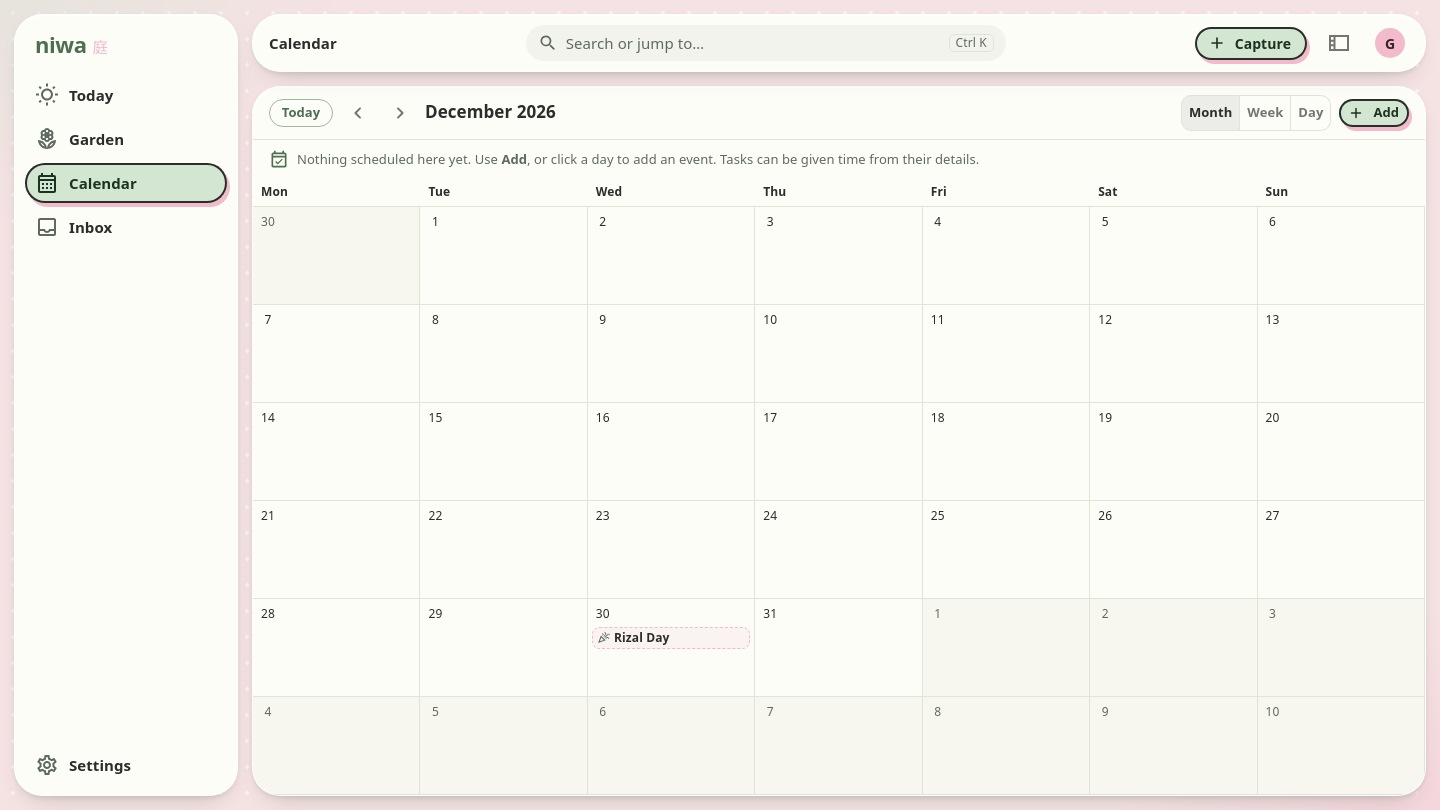
Test: Calendar holidays (B8) › shows the country’s holidays as read-only labels that explain themselves
The width and height of the screenshot is (1440, 810).
What coordinates should you click on to do the following:
click the button with aria-label "Rizal Day, public holiday"
I would click on:
 (671, 638)
Its box is top-left (592, 627), bottom-right (750, 649).
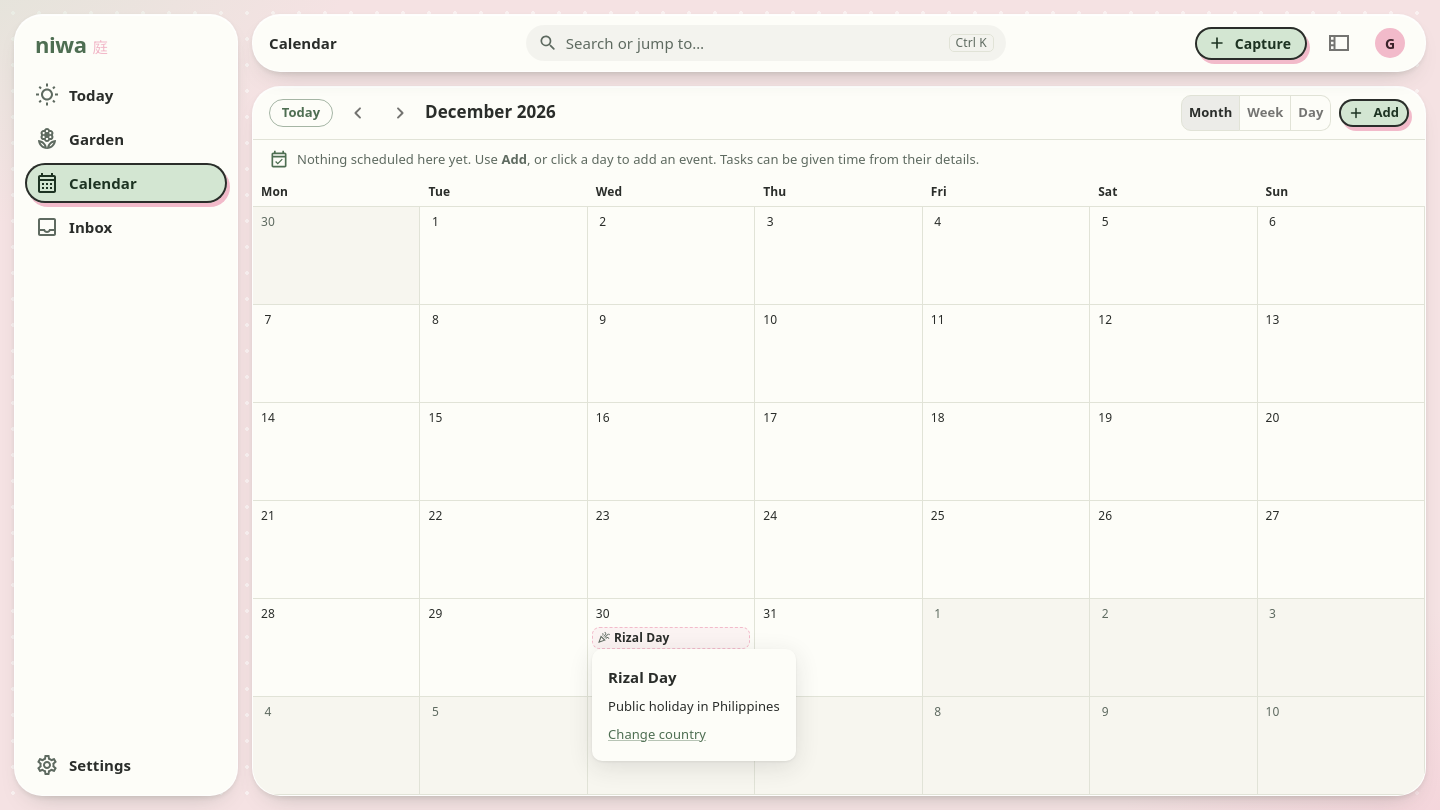
Expected: the text "Public holiday in Philippines" is shown, top-left (608, 697), bottom-right (780, 716)
